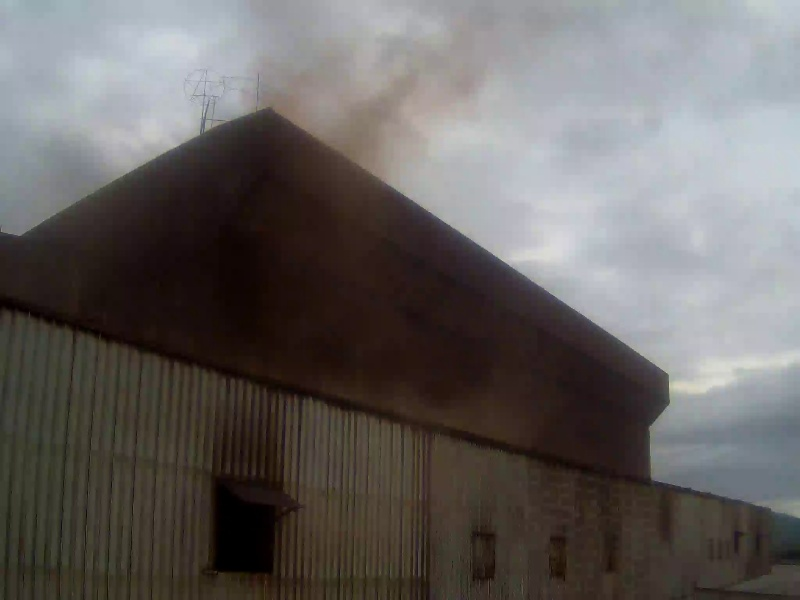bom: (636, 285, 793, 473)
ruim: (268, 27, 675, 481), (4, 2, 316, 191)
